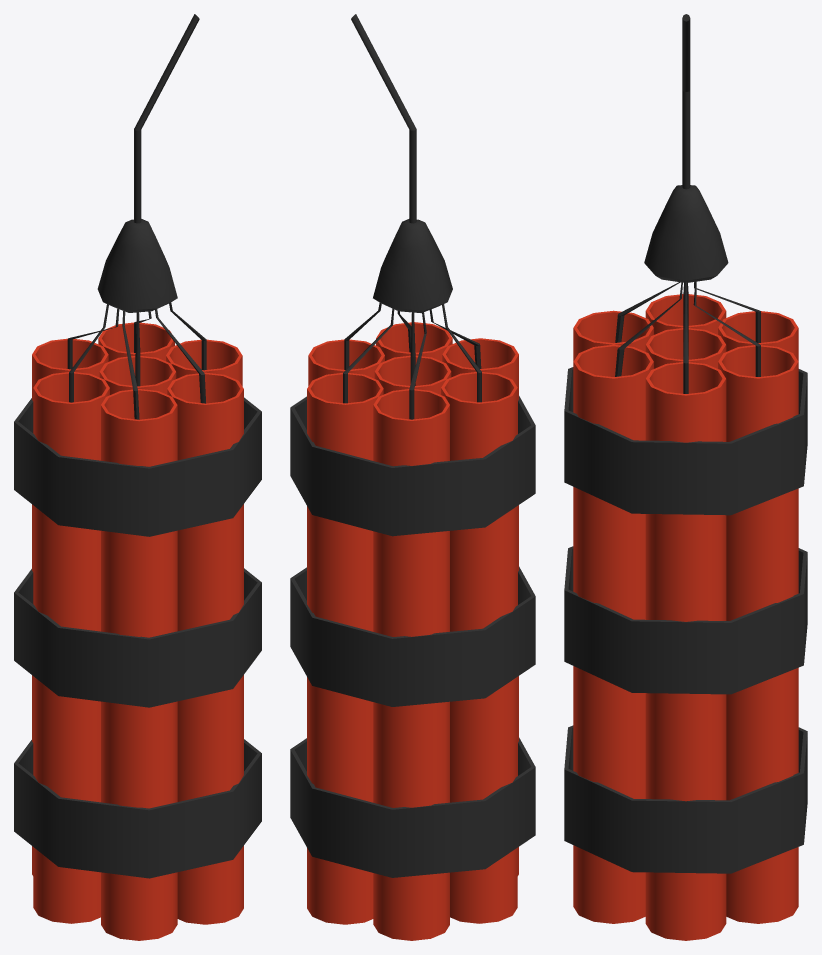
The model's file is bomb1-food.fbx.
3 views of the same model, side by side, from view 1: azimuth 30°, elevation 25°; view 2: azimuth 150°, elevation 25°; view 3: azimuth 270°, elevation 25° (orthographic). The views are drawn at different scales.
Visible parts, largest first — view 1: bomb1-food; view 2: bomb1-food; view 3: bomb1-food.
Part boxes in pixels (x1=…): bomb1-food: x1=14, y1=14, x2=261, y2=940; bomb1-food: x1=290, y1=14, x2=535, y2=940; bomb1-food: x1=564, y1=14, x2=807, y2=940.
Bounding box in the file's own units: 0.1028 × 0.4187 × 0.102.
